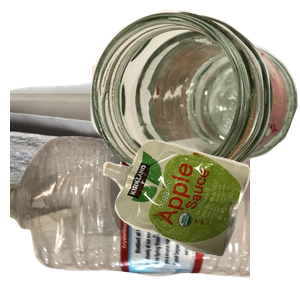glass: (90, 10, 300, 184)
paper: (10, 77, 250, 257)
plastic: (10, 134, 250, 300)
trash: (100, 137, 300, 300)
